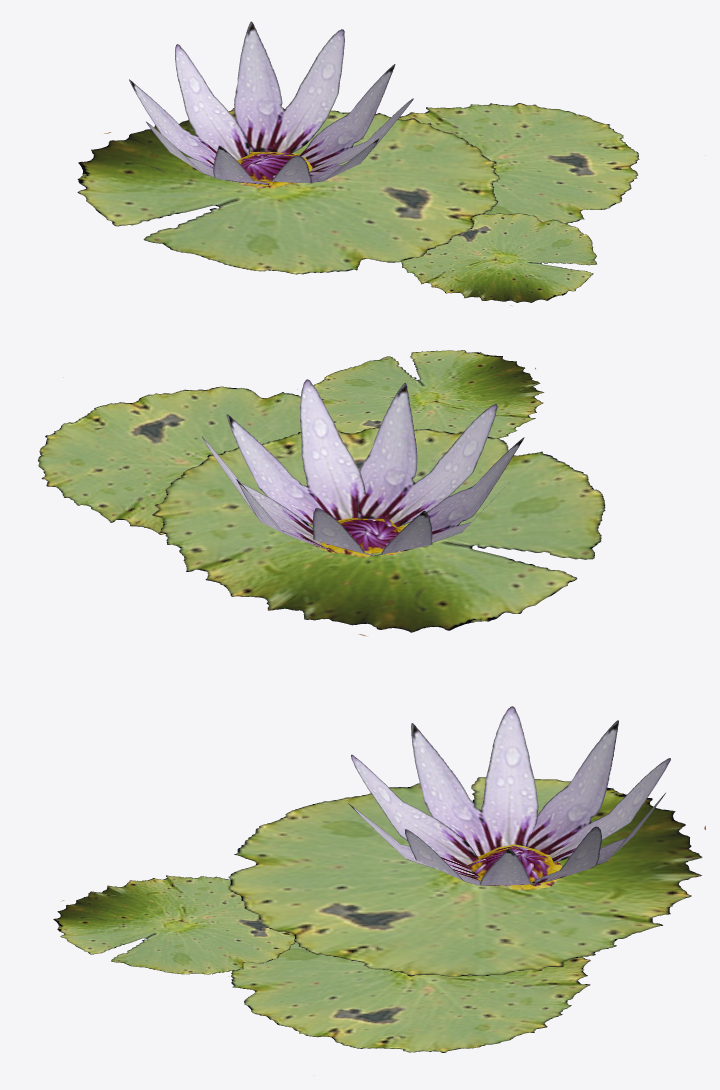
File: nenufarFBx.FBX
3 views of the same model, one above another, from view 1: azimuth 30°, elevation 25°; view 2: azimuth 150°, elevation 25°; view 3: azimuth 270°, elevation 25° (orthographic). The views are drawn at different scales.
Parts seen in each view (by area): view 1: Plane001; view 2: Plane001; view 3: Plane001.
Boxes of the visible parts, x1=… form: Plane001: x1=77, y1=21, x2=705, y2=306; Plane001: x1=38, y1=350, x2=605, y2=636; Plane001: x1=53, y1=706, x2=705, y2=1052.
Bounding box in the file's own units: 62.03 × 12.06 × 61.19.
